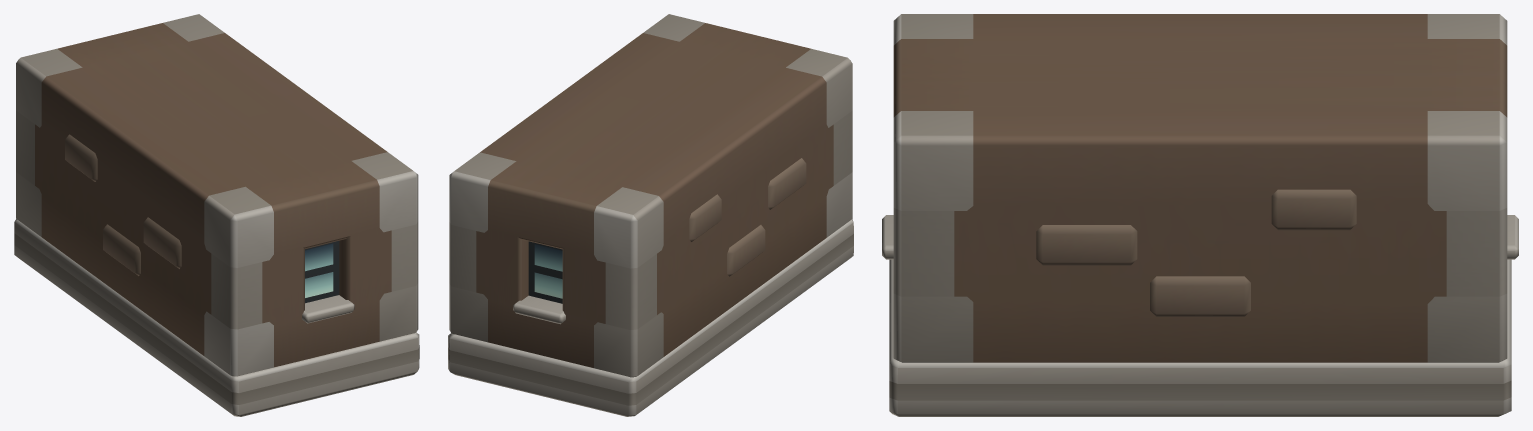
File: appartment_type1_x2_element_beige.fbx
3 renders of one model, left to right at view 1: azimuth 30°, elevation 25°; view 2: azimuth 150°, elevation 25°; view 3: azimuth 270°, elevation 25°, orthographic. The views are drawn at different scales.
Visible parts, largest first — view 1: appartment_type1_x2_element_beige; view 2: appartment_type1_x2_element_beige; view 3: appartment_type1_x2_element_beige.
Boxes of the visible parts, x1,y1,x2,y2 form: appartment_type1_x2_element_beige: [14, 14, 419, 416]; appartment_type1_x2_element_beige: [448, 14, 853, 416]; appartment_type1_x2_element_beige: [882, 14, 1518, 416].
Size of the model in its own units: 419 by 409 by 841.
